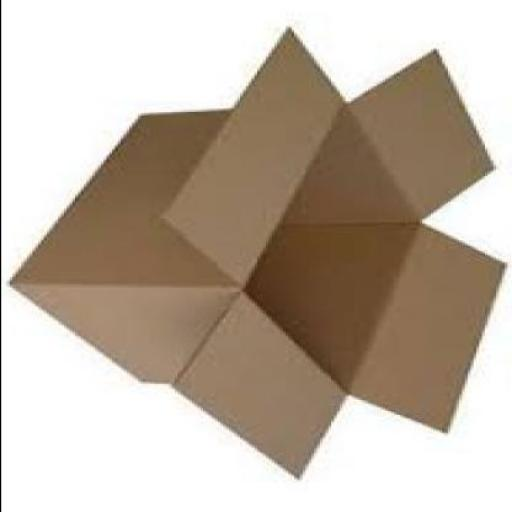cardboard: (12, 28, 509, 480)
